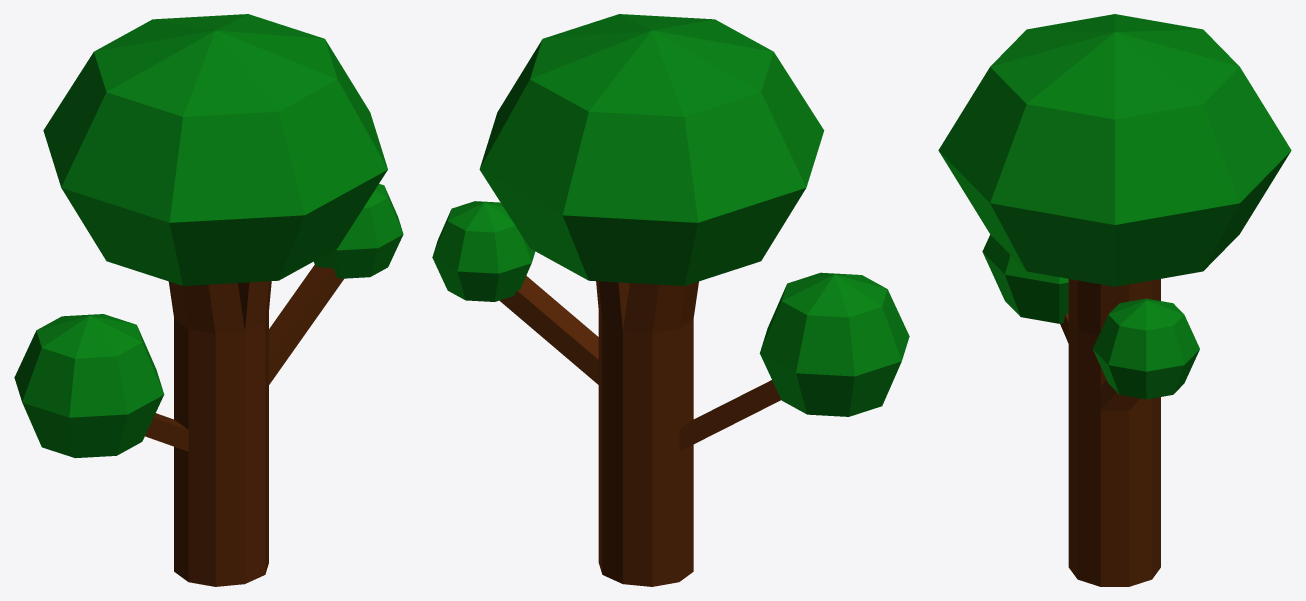
The model's file is arbol.fbx.
3 renders of one model, left to right at view 1: azimuth 30°, elevation 25°; view 2: azimuth 150°, elevation 25°; view 3: azimuth 270°, elevation 25°, orthographic.
Parts seen in each view (by area): view 1: Árbol; view 2: Árbol; view 3: Árbol.
Boxes of the visible parts, box(x1,y1,x2,y2) form: Árbol: box(14, 14, 403, 586); Árbol: box(432, 14, 909, 586); Árbol: box(938, 14, 1291, 586).
Bounding box in the file's own units: 1563 × 1913 × 1150.
